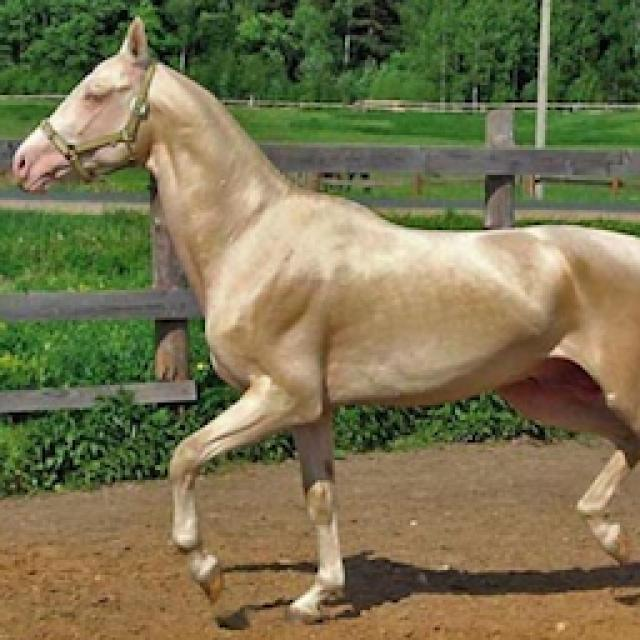Horse: (5, 12, 638, 632)
